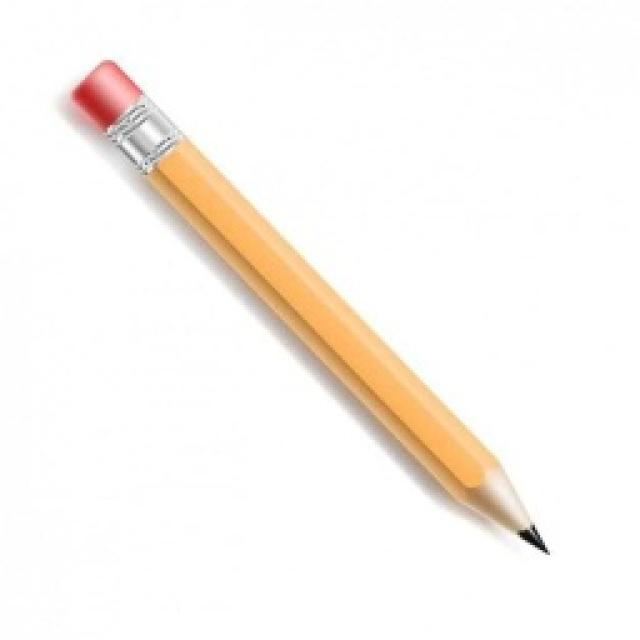pencil: (60, 55, 552, 557)
